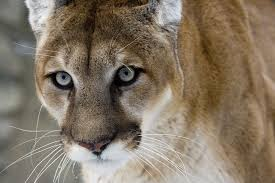Mountain Lion: (25, 4, 274, 181)
